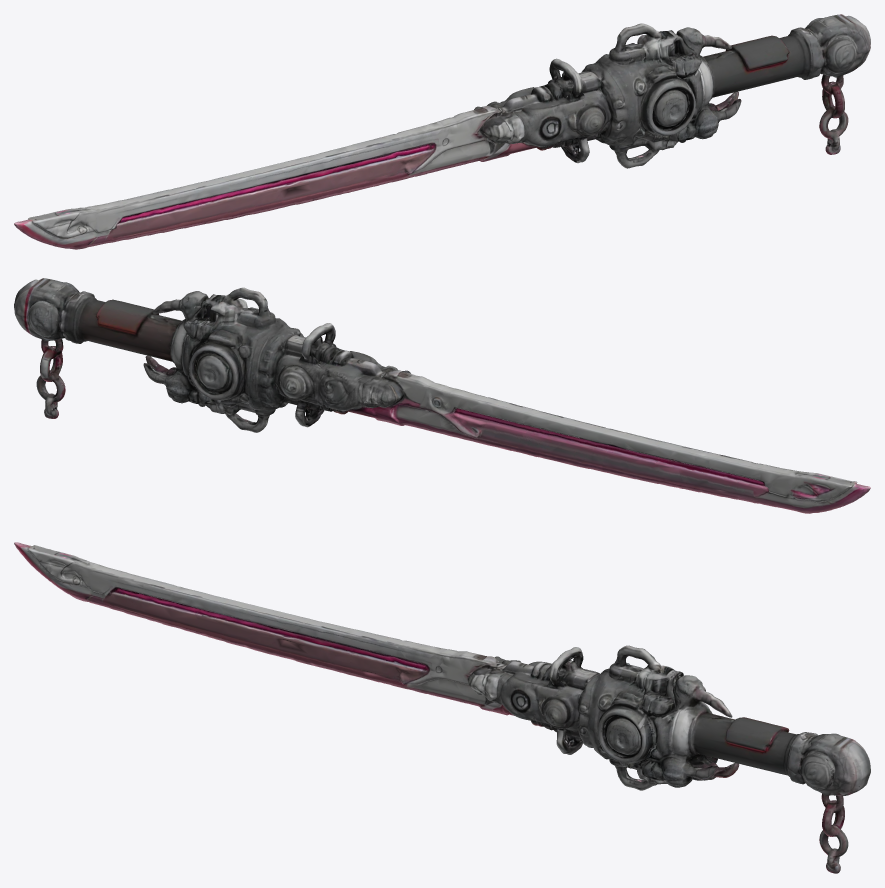
File: cyber-blade.glb
The picture shows the model from 3 angles, top to bottom: view 1: azimuth 30°, elevation 25°; view 2: azimuth 150°, elevation 25°; view 3: azimuth 330°, elevation 25°; orthographic projection.
Size of the model in its own units: 1.9 by 0.3772 by 0.2078.
1 material, 1 textured.
